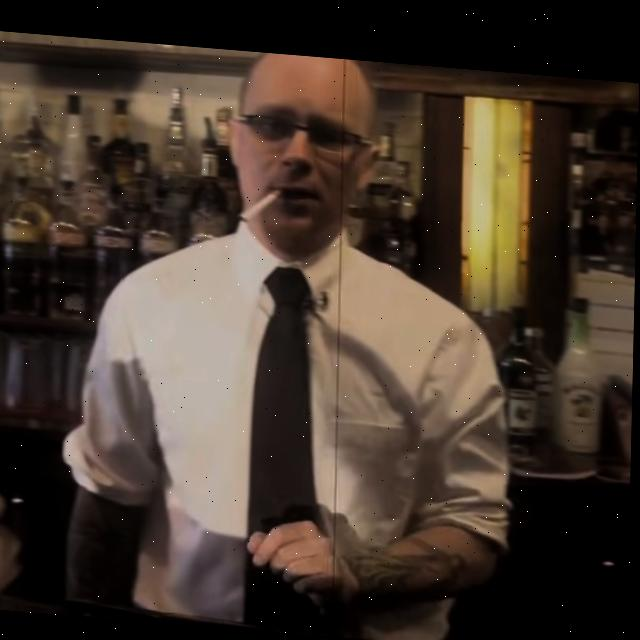cigarette: (237, 180, 285, 221)
